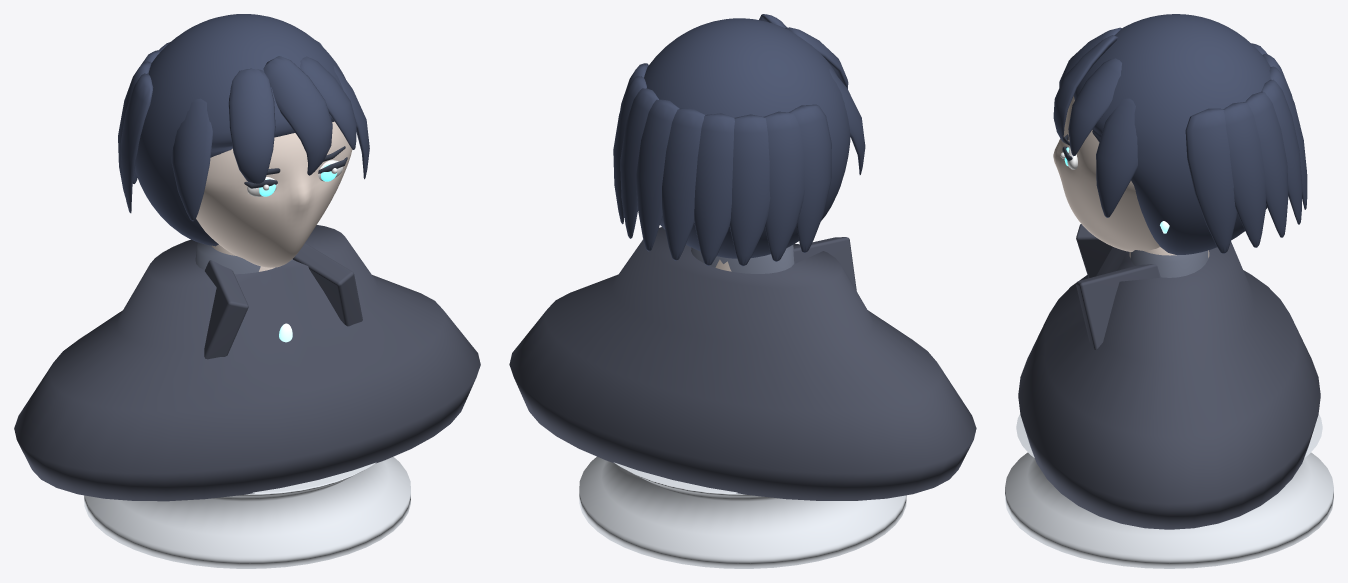
The model's file is webtoon-male-lead-hunter-bust-v15.glb.
3 renders of one model, left to right at view 1: azimuth 30°, elevation 25°; view 2: azimuth 150°, elevation 25°; view 3: azimuth 270°, elevation 25°, orthographic.
Parts seen in each view (by area): view 1: HunterHighCollarCoat, HunterCommaHair, HunterPlatinumPedestalAndTrim, HunterSkinBust, HunterTurtleneck; view 2: HunterHighCollarCoat, HunterCommaHair, HunterPlatinumPedestalAndTrim, HunterTurtleneck; view 3: HunterHighCollarCoat, HunterCommaHair, HunterPlatinumPedestalAndTrim, HunterSkinBust, HunterTurtleneck.
Part boxes in pixels (<box>): HunterHighCollarCoat: <box>14,225,480,501</box>; HunterCommaHair: <box>118,14,369,246</box>; HunterPlatinumPedestalAndTrim: <box>84,456,410,568</box>; HunterSkinBust: <box>196,121,352,271</box>; HunterTurtleneck: <box>195,242,292,274</box>; HunterHighCollarCoat: <box>509,227,976,500</box>; HunterCommaHair: <box>613,14,865,266</box>; HunterPlatinumPedestalAndTrim: <box>579,456,906,568</box>; HunterTurtleneck: <box>691,245,794,273</box>; HunterHighCollarCoat: <box>1018,224,1320,529</box>; HunterCommaHair: <box>1053,14,1307,254</box>; HunterPlatinumPedestalAndTrim: <box>1005,414,1333,568</box>; HunterSkinBust: <box>1053,96,1209,257</box>; HunterTurtleneck: <box>1130,250,1208,277</box>.
Bounding box in the file's own units: 0.9187 × 0.9407 × 0.59.
